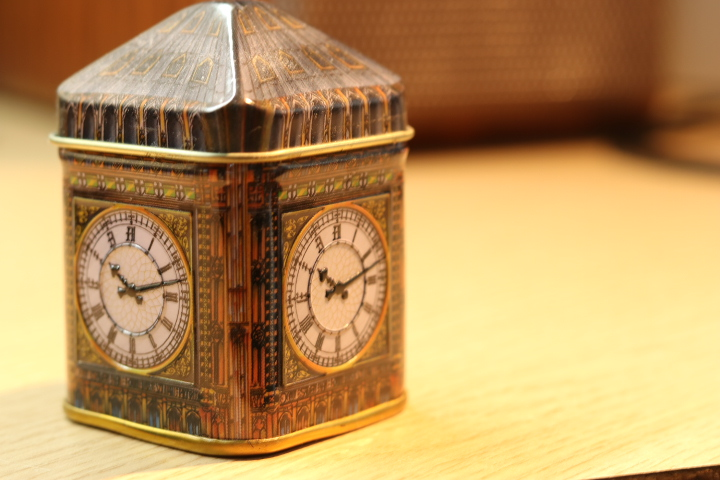Big Ben: (40, 1, 433, 472)
